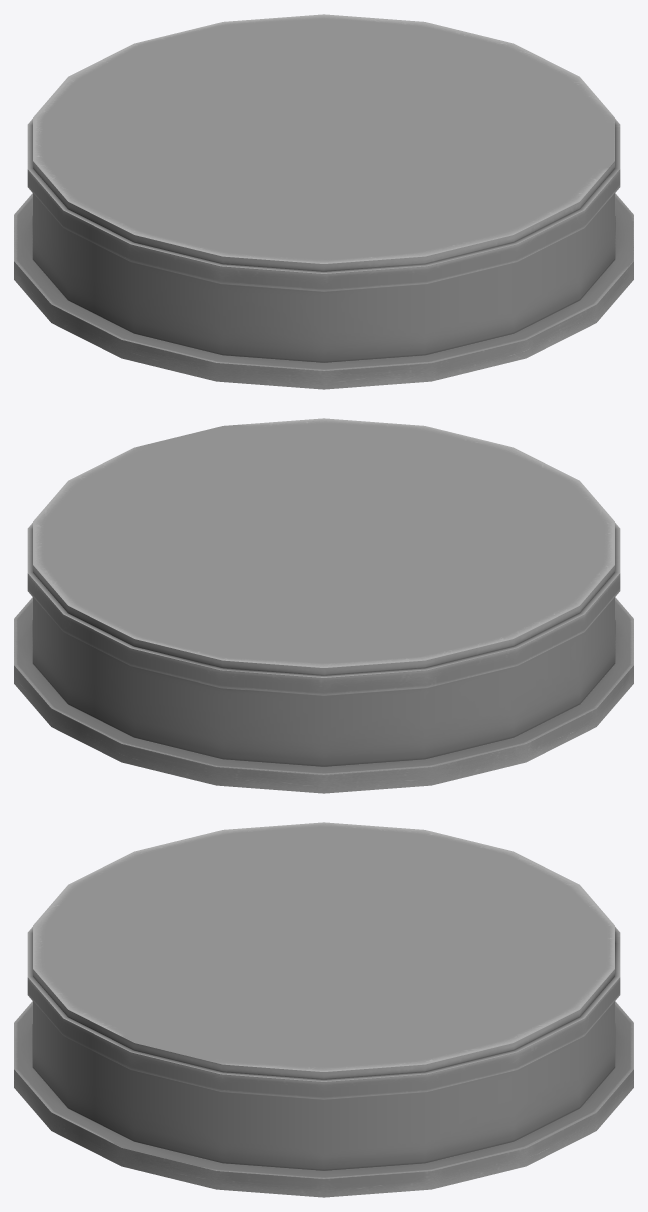
Rendered from BaseArgento.fbx.
3 views of the same model, one above another, from view 1: azimuth 30°, elevation 25°; view 2: azimuth 150°, elevation 25°; view 3: azimuth 270°, elevation 25° (orthographic).
Visible parts, largest first — view 1: MOdulo centrale, modulo base, modulo superiore; view 2: MOdulo centrale, modulo base, modulo superiore; view 3: MOdulo centrale, modulo base, modulo superiore.
Part boxes in pixels (x1,y1,x2,y2): MOdulo centrale: (33,14,614,362); modulo base: (14,193,633,389); modulo superiore: (27,119,620,291); MOdulo centrale: (33,418,614,766); modulo base: (14,597,633,793); modulo superiore: (27,523,620,695); MOdulo centrale: (33,822,614,1170); modulo base: (14,1001,633,1197); modulo superiore: (27,927,620,1099).
Size of the model in its own units: 190 by 39.11 by 187.
